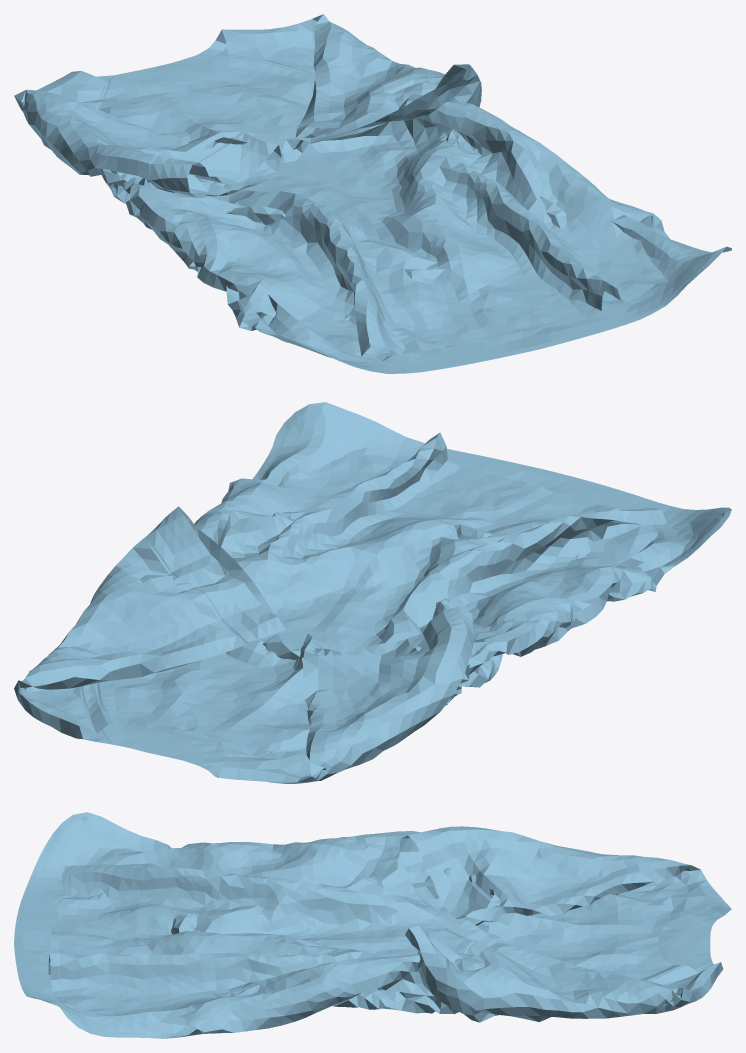
Rendered from frame_01.glb.
The picture shows the model from 3 angles, top to bottom: view 1: azimuth 30°, elevation 25°; view 2: azimuth 150°, elevation 25°; view 3: azimuth 270°, elevation 25°; orthographic projection. The views are drawn at different scales.
Visible parts, largest first — view 1: frame_01.obj; view 2: frame_01.obj; view 3: frame_01.obj.
Boxes of the visible parts, <box> form: frame_01.obj: <box>14,14,731,373</box>; frame_01.obj: <box>14,402,731,783</box>; frame_01.obj: <box>14,812,731,1038</box>.
Bounding box in the file's own units: 1.18 × 0.2471 × 1.81.
